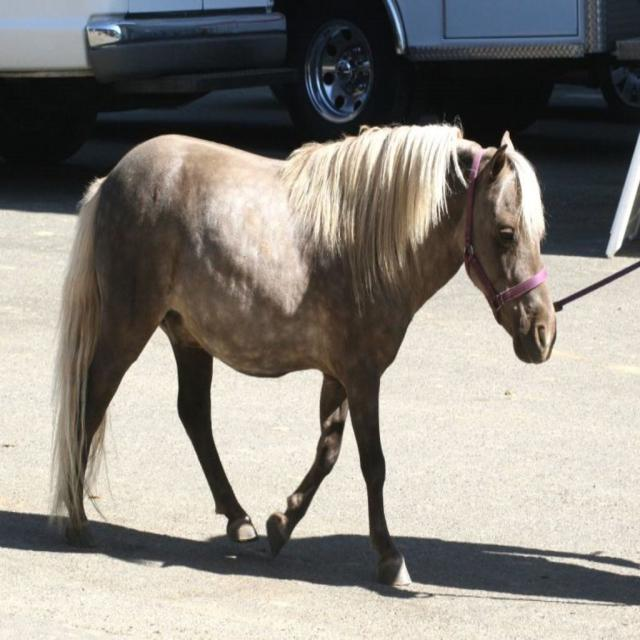Horse: (42, 128, 557, 591)
